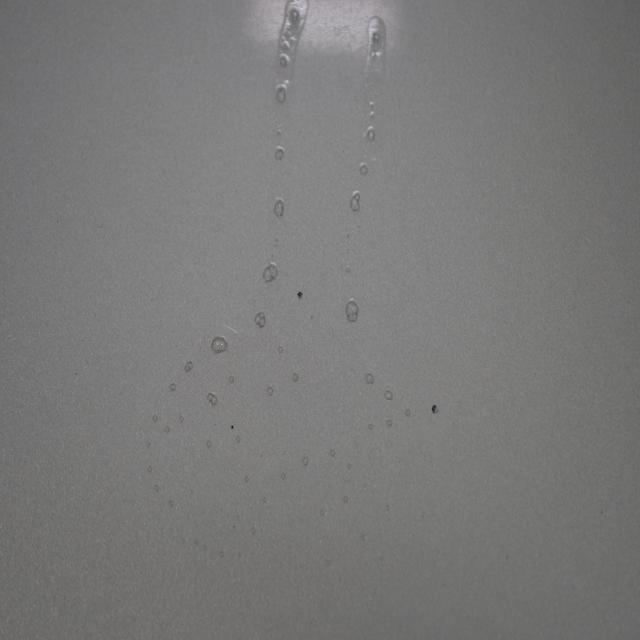dirt: (430, 398, 437, 416), (298, 290, 304, 300), (230, 423, 234, 431)
runs: (144, 0, 439, 562)
